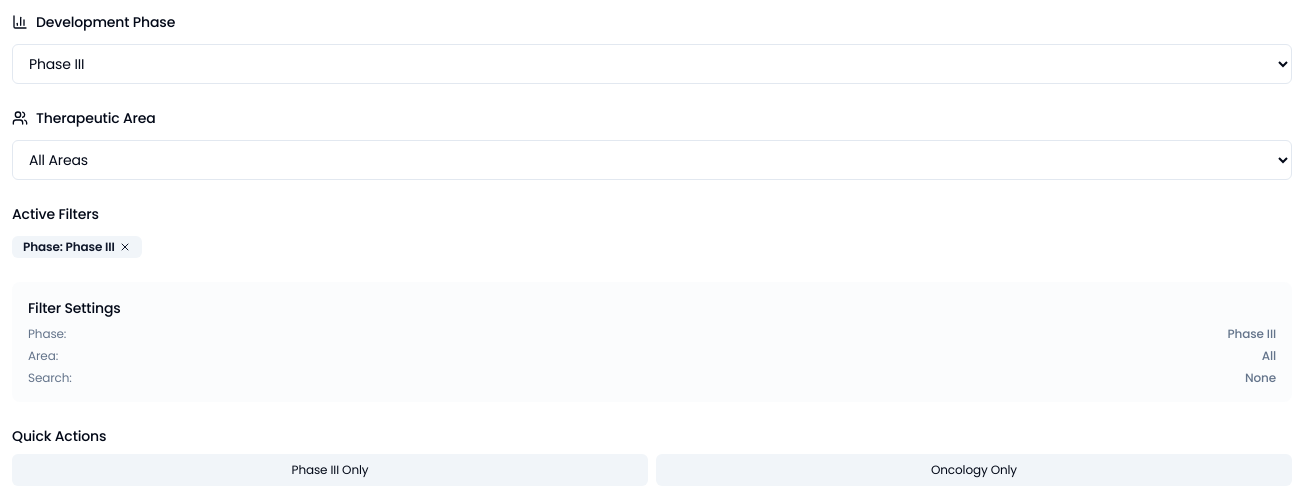
it: ProgramFilters › should clear phase filter when X is clicked
Click the icon with class "cursor-pointer" at [125, 247], box [119,241,131,253]
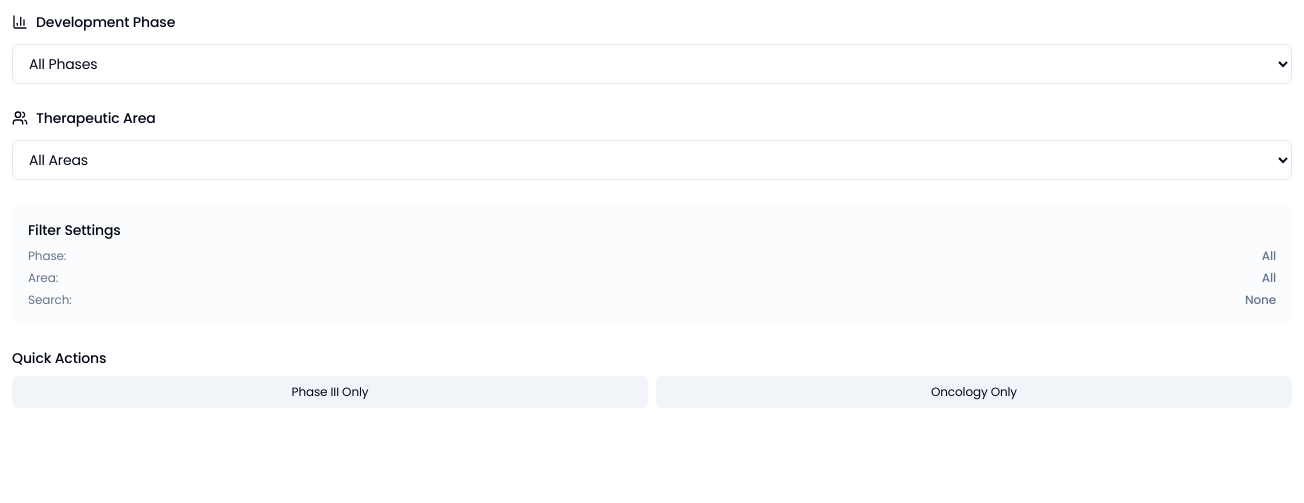
Now the 1st text "All" is shown, box [1262,248,1276,264]
